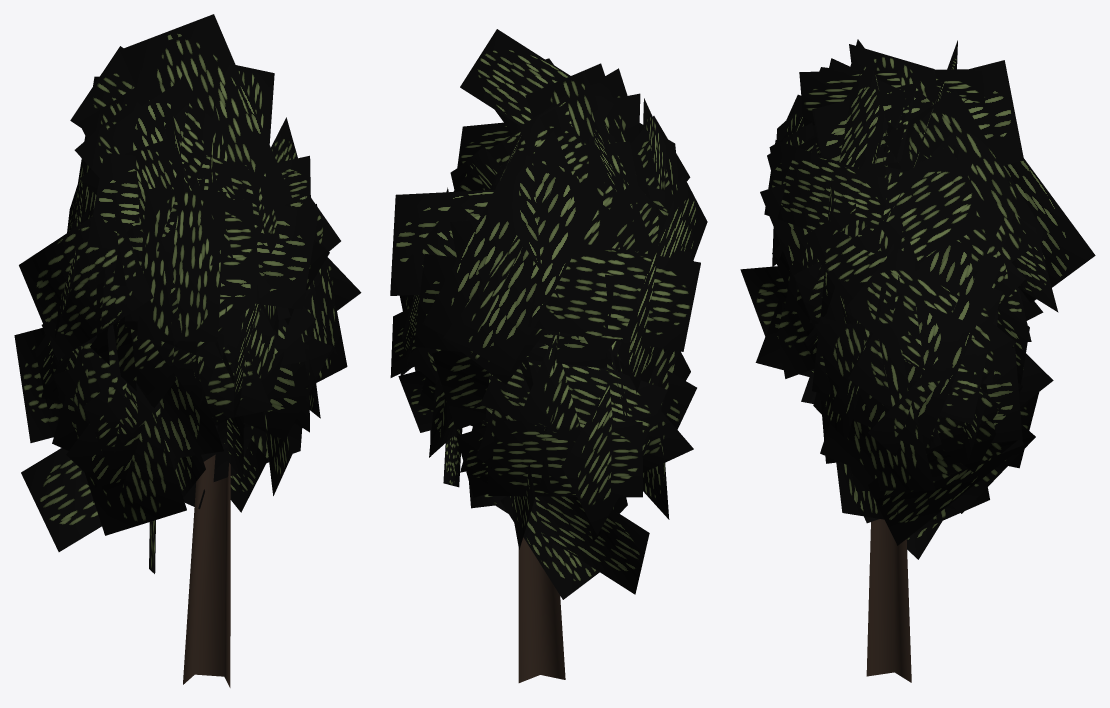
Rendered from caral_sauce_lod1.glb.
3 renders of one model, left to right at view 1: azimuth 30°, elevation 25°; view 2: azimuth 150°, elevation 25°; view 3: azimuth 270°, elevation 25°, orthographic.
Visible parts, largest first — view 1: GEO-Kit_sauce_LOD1; view 2: GEO-Kit_sauce_LOD1; view 3: GEO-Kit_sauce_LOD1.
Part boxes in pixels (x1,y1,x2,y2): GEO-Kit_sauce_LOD1: (14,14,361,687); GEO-Kit_sauce_LOD1: (390,29,707,682); GEO-Kit_sauce_LOD1: (740,39,1095,682).
Bounding box in the file's own units: 3.83 × 8.29 × 3.98.
Materials: 2 (1 with a texture image).
